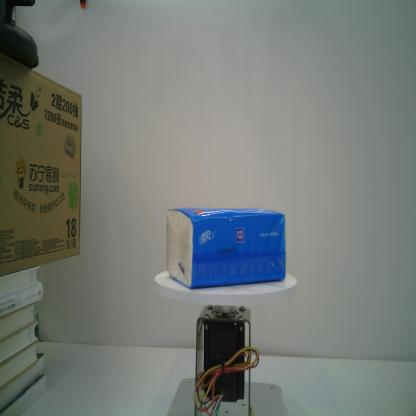Tissue: (164, 206, 288, 289)
